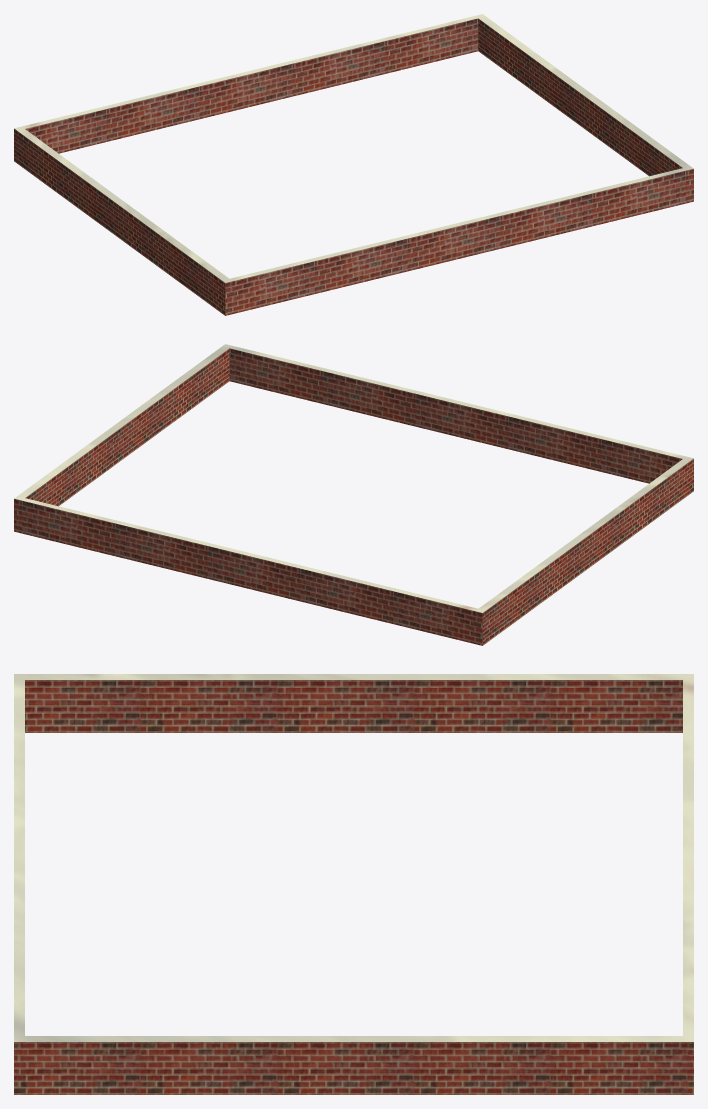
Rendered from walls.obj.
The picture shows the model from 3 angles, top to bottom: view 1: azimuth 30°, elevation 25°; view 2: azimuth 150°, elevation 25°; view 3: azimuth 270°, elevation 25°; orthographic projection. The views are drawn at different scales.
Visible parts, largest first — view 1: walls_Compound; view 2: walls_Compound; view 3: walls_Compound.
Boxes of the visible parts, x1,y1,x2,y2 form: walls_Compound: (14, 14, 693, 315); walls_Compound: (14, 344, 693, 645); walls_Compound: (14, 674, 693, 1094).
Size of the model in its own units: 102 by 6.84 by 79.57.
